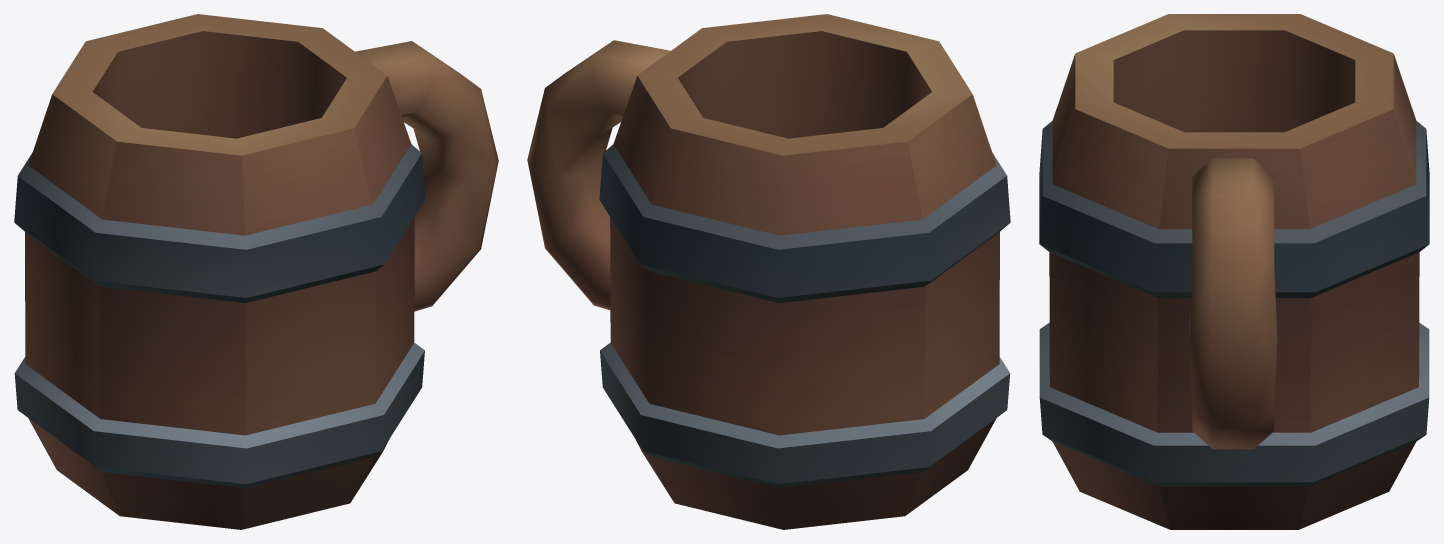
Rendered from mug_wood_small.fbx.
The picture shows the model from 3 angles, left to right: view 1: azimuth 30°, elevation 25°; view 2: azimuth 150°, elevation 25°; view 3: azimuth 270°, elevation 25°; orthographic projection.
Visible parts, largest first — view 1: mug_wood_small; view 2: mug_wood_small; view 3: mug_wood_small.
Part boxes in pixels (x1,y1,x2,y2): mug_wood_small: [14, 14, 498, 529]; mug_wood_small: [527, 14, 1010, 529]; mug_wood_small: [1039, 14, 1429, 529].
Bounding box in the file's own units: 32.46 × 26.92 × 24.85.
